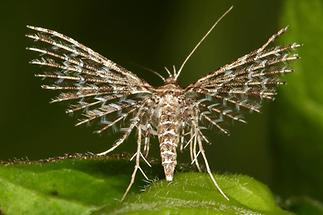Alucitidae: (19, 1, 303, 203)
moth: (21, 3, 305, 205)
